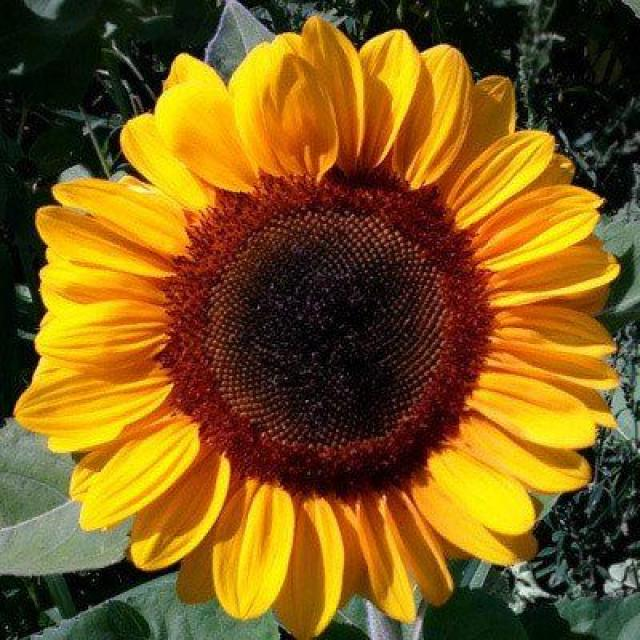sunflower: (17, 6, 620, 640)
